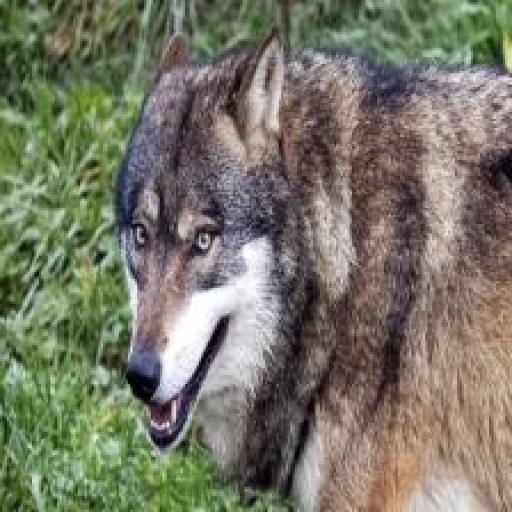wolf: (112, 27, 512, 512)
